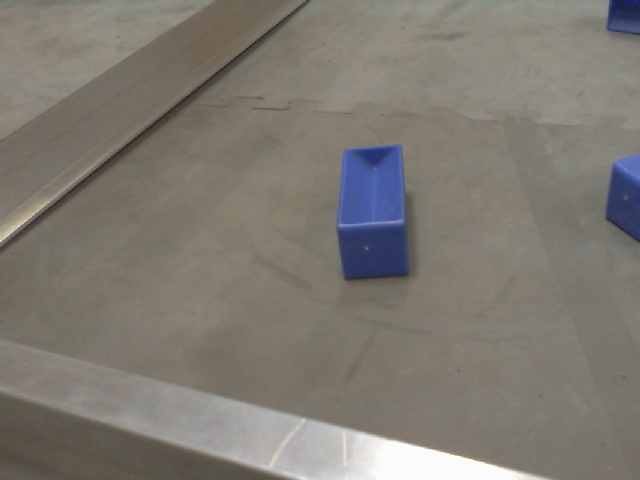BlueSample: (329, 139, 410, 287), (604, 150, 640, 250), (605, 1, 640, 33)
